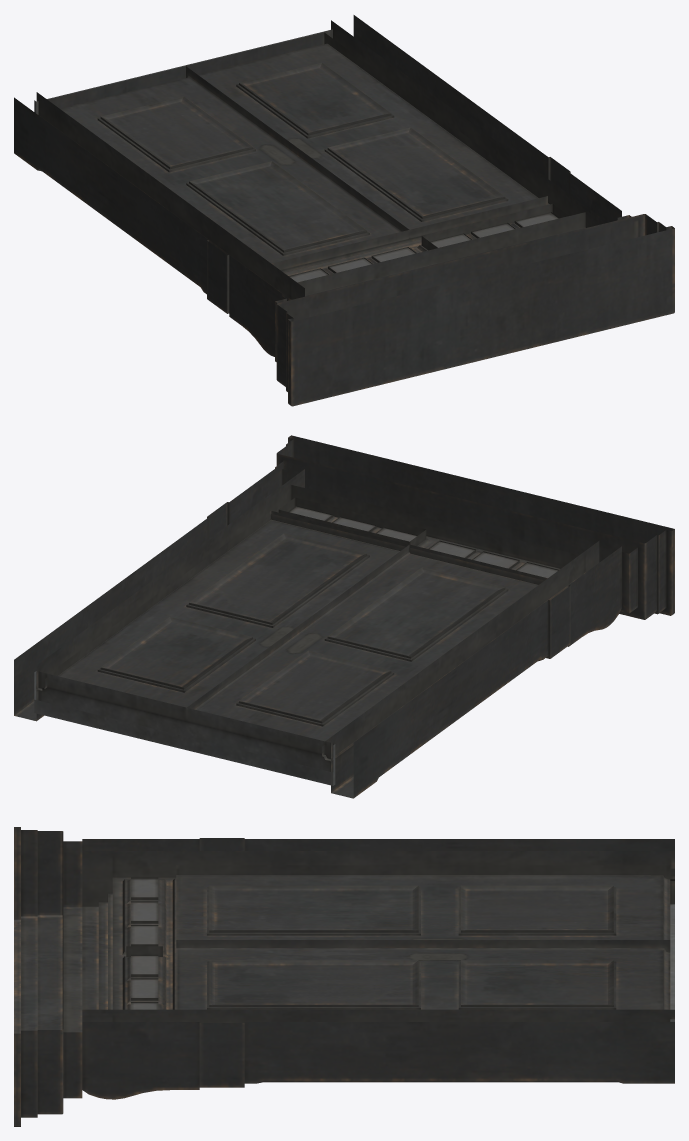
File: door_centered_large_01.gltf
3 renders of one model, top to bottom at view 1: azimuth 30°, elevation 25°; view 2: azimuth 150°, elevation 25°; view 3: azimuth 270°, elevation 25°, orthographic. The views are drawn at different scales.
Parts seen in each view (by area): view 1: door_centered_large_01; view 2: door_centered_large_01; view 3: door_centered_large_01.
Part boxes in pixels (x1,y1,x2,y2): door_centered_large_01: (14, 15, 674, 406); door_centered_large_01: (14, 435, 674, 798); door_centered_large_01: (14, 827, 674, 1126).
Size of the model in its own units: 2.08 by 0.44 by 2.81.
Materials: 2 (2 with a texture image).
